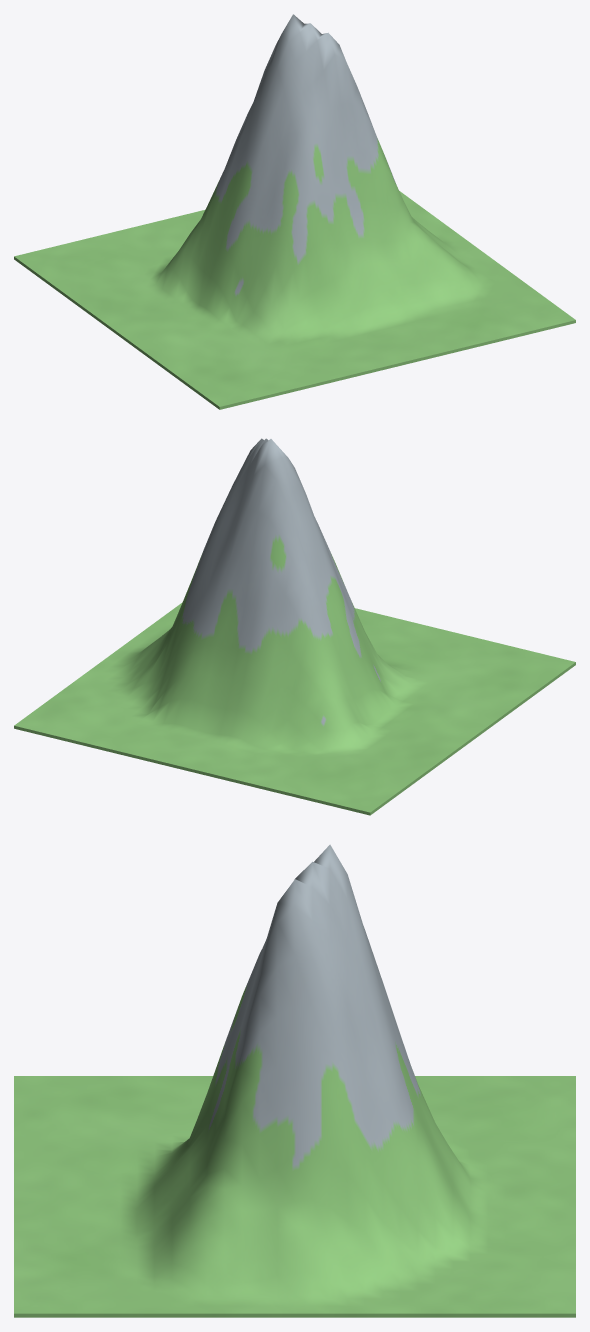
Rendered from Grass_RockyMountains_07.obj.
3 views of the same model, one above another, from view 1: azimuth 30°, elevation 25°; view 2: azimuth 150°, elevation 25°; view 3: azimuth 270°, elevation 25° (orthographic). The views are drawn at different scales.
Bounding box in the file's own units: 10 × 7.11 × 10.
Materials: 1 (1 with a texture image).
